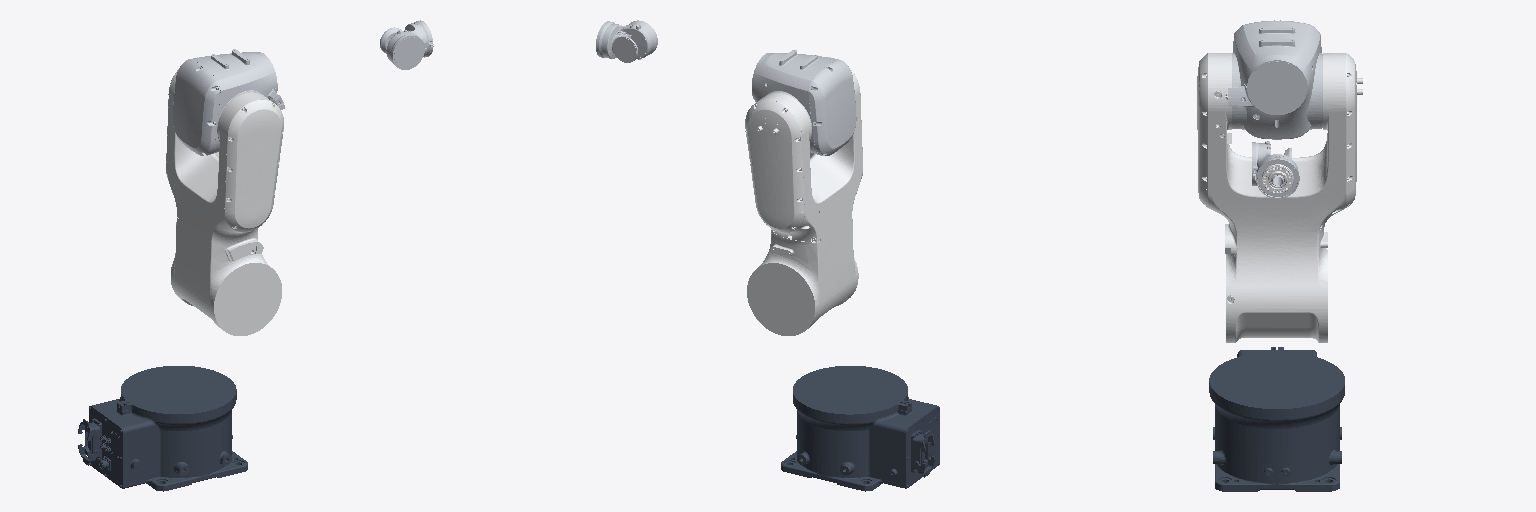
URDF robot description (IR-R20H-120S5-C1NH-INT_01741447):
<?xml version="1.0"?>
<!-- Firmware source: params_package/Standard/Body/IR-R20H-120S5-C1NH-INT_01741447/IR-R20H-120S5-C1NH-INT_01741447.json; SHA256 89846869f9e3eed4bd8fa52d6bdf8d5c34436ff1f6e8a23537920c2deb94a662. -->
<!-- Z-up; STL mm scaled to m. Effective firmware mass properties are SI and transformed into CAD link frames. -->
<!-- Revolute effort is nominal output torque; prismatic effort is ideal screw force. See physics-audit.json for approximations. -->
<robot name="IR-R20H-120S5-C1NH-INT_01741447">
  <link name="base_link">

    <visual name="base">
      <origin xyz="0 0 0" rpy="0 0 0"/>
      <geometry>
        <mesh filename="../models/IR-R20H-120/P0.stl" scale="0.001 0.001 0.001"/>
      </geometry>
      <material name="base_material">
        <color rgba="0.31 0.35 0.41 1"/>
      </material>
    </visual>
    <collision name="base_collision">
      <origin xyz="0 0 0" rpy="0 0 0"/>
      <geometry>
        <mesh filename="../models/IR-R20H-120/P0.stl" scale="0.001 0.001 0.001"/>
      </geometry>
    </collision>
  </link>

  <link name="link_1">

    <!-- inertial source: bounding-box-fallback -->
    <!-- Effective firmware principal moments are not physically realizable; no unit guessing applied -->
    <inertial>
      <origin xyz="0.048762664795 0.004947761536 0.407161254883" rpy="0 0 0"/>
      <mass value="51.29"/>
      <inertia ixx="1.481397177827" ixy="0" ixz="0" iyy="1.45768920473" iyz="0" izz="1.513844381569"/>
    </inertial>

    <visual name="link_1">
      <origin xyz="0 0 0" rpy="0 0 0"/>
      <geometry>
        <mesh filename="../models/IR-R20H-120/P1.stl" scale="0.001 0.001 0.001"/>
      </geometry>
      <material name="link_1_material">
        <color rgba="0.84 0.86 0.89 1"/>
      </material>
    </visual>
    <collision name="link_1_collision">
      <origin xyz="0 0 0" rpy="0 0 0"/>
      <geometry>
        <mesh filename="../models/IR-R20H-120/P1.stl" scale="0.001 0.001 0.001"/>
      </geometry>
    </collision>
  </link>

  <link name="link_2">

    <!-- inertial source: firmware-effective-si -->
    <inertial>
      <origin xyz="0.00744 -0.0186 0.22" rpy="0 0 0"/>
      <mass value="32.38"/>
      <inertia ixx="1.92" ixy="0" ixz="0" iyy="1.68" iyz="0" izz="0.408"/>
    </inertial>

    <visual name="link_2">
      <origin xyz="-0.15 0 -0.5" rpy="0 0 0"/>
      <geometry>
        <mesh filename="../models/IR-R20H-120/P2.stl" scale="0.001 0.001 0.001"/>
      </geometry>
      <material name="link_2_material">
        <color rgba="0.94 0.95 0.96 1"/>
      </material>
    </visual>
    <collision name="link_2_collision">
      <origin xyz="-0.15 0 -0.5" rpy="0 0 0"/>
      <geometry>
        <mesh filename="../models/IR-R20H-120/P2.stl" scale="0.001 0.001 0.001"/>
      </geometry>
    </collision>
  </link>

  <link name="link_3">

    <!-- inertial source: firmware-effective-si -->
    <inertial>
      <origin xyz="0.0252 0.0054 0.033" rpy="0 0 0"/>
      <mass value="10.71"/>
      <inertia ixx="0.088" ixy="0" ixz="0" iyy="0.0844" iyz="0" izz="0.0877"/>
    </inertial>

    <visual name="link_3">
      <origin xyz="-0.15 0 -1.025" rpy="0 0 0"/>
      <geometry>
        <mesh filename="../models/IR-R20H-120/P3.stl" scale="0.001 0.001 0.001"/>
      </geometry>
      <material name="link_3_material">
        <color rgba="0.84 0.86 0.89 1"/>
      </material>
    </visual>
    <collision name="link_3_collision">
      <origin xyz="-0.15 0 -1.025" rpy="0 0 0"/>
      <geometry>
        <mesh filename="../models/IR-R20H-120/P3.stl" scale="0.001 0.001 0.001"/>
      </geometry>
    </collision>
  </link>

  <link name="link_4">

    <!-- inertial source: firmware-effective-si -->
    <inertial>
      <origin xyz="0.36 -0.007 0.000353" rpy="0 0 0"/>
      <mass value="9.14"/>
      <inertia ixx="0.032443793233" ixy="0" ixz="0" iyy="0.15" iyz="0" izz="0.17"/>
    </inertial>

    <visual name="link_4">
      <origin xyz="-0.15 0 -1.09" rpy="0 0 0"/>
      <geometry>
        <mesh filename="../models/IR-R20H-120/P4.stl" scale="0.001 0.001 0.001"/>
      </geometry>
      <material name="link_4_material">
        <color rgba="0.94 0.95 0.96 1"/>
      </material>
    </visual>
    <collision name="link_4_collision">
      <origin xyz="-0.15 0 -1.09" rpy="0 0 0"/>
      <geometry>
        <mesh filename="../models/IR-R20H-120/P4.stl" scale="0.001 0.001 0.001"/>
      </geometry>
    </collision>
  </link>

  <link name="link_5">

    <!-- inertial source: firmware-effective-si -->
    <inertial>
      <origin xyz="0.031018051 -0.008 0.0000661" rpy="0 0 0"/>
      <mass value="1.98"/>
      <inertia ixx="0.00377" ixy="0" ixz="0" iyy="0.0030742545" iyz="0" izz="0.0041"/>
    </inertial>

    <visual name="link_5">
      <origin xyz="-0.689 0 -1.09" rpy="0 0 0"/>
      <geometry>
        <mesh filename="../models/IR-R20H-120/P5.stl" scale="0.001 0.001 0.001"/>
      </geometry>
      <material name="link_5_material">
        <color rgba="0.84 0.86 0.89 1"/>
      </material>
    </visual>
    <collision name="link_5_collision">
      <origin xyz="-0.689 0 -1.09" rpy="0 0 0"/>
      <geometry>
        <mesh filename="../models/IR-R20H-120/P5.stl" scale="0.001 0.001 0.001"/>
      </geometry>
    </collision>
  </link>

  <link name="link_6">

    <!-- inertial source: bounding-box-fallback -->
    <!-- Effective firmware principal moments are not physically realizable; no unit guessing applied -->
    <inertial>
      <origin xyz="-0.005001342773 0.000986198425 -0.000006164551" rpy="0 0 0"/>
      <mass value="0.642122129581"/>
      <inertia ixx="0.000586473906" ixy="0" ixz="0" iyy="0.000329667033" iyz="0" izz="0.000329170976"/>
    </inertial>

    <visual name="link_6">
      <origin xyz="-0.775 0 -1.09" rpy="0 0 0"/>
      <geometry>
        <mesh filename="../models/IR-R20H-120/P6.stl" scale="0.001 0.001 0.001"/>
      </geometry>
      <material name="link_6_material">
        <color rgba="0.94 0.95 0.96 1"/>
      </material>
    </visual>
    <collision name="link_6_collision">
      <origin xyz="-0.775 0 -1.09" rpy="0 0 0"/>
      <geometry>
        <mesh filename="../models/IR-R20H-120/P6.stl" scale="0.001 0.001 0.001"/>
      </geometry>
    </collision>
  </link>

  <joint name="J1" type="revolute">
    <parent link="base_link"/>
    <child link="link_1"/>
    <origin xyz="0 0 0" rpy="0 0 0"/>
    <axis xyz="0 0 1"/>
    <limit lower="-2.96705972839" upper="2.96705972839" effort="690.9" velocity="4.537856055185"/>
  </joint>

  <joint name="J2" type="revolute">
    <parent link="link_1"/>
    <child link="link_2"/>
    <origin xyz="0.15 0 0.5" rpy="0 0 0"/>
    <axis xyz="0 -1 0"/>
    <limit lower="-2.792526803191" upper="1.221730476396" effort="686" velocity="4.188790204786"/>
  </joint>

  <joint name="J3" type="revolute">
    <parent link="link_2"/>
    <child link="link_3"/>
    <origin xyz="0 0 0.525" rpy="0 0 0"/>
    <axis xyz="0 -1 0"/>
    <limit lower="-1.326450231516" upper="3.577924966588" effort="362.98125" velocity="4.537856055185"/>
  </joint>

  <joint name="J4" type="revolute">
    <parent link="link_3"/>
    <child link="link_4"/>
    <origin xyz="0 0 0.065" rpy="0 0 0"/>
    <axis xyz="1 0 0"/>
    <limit lower="-3.316125578789" upper="3.316125578789" effort="75.31354" velocity="8.203047484373"/>
  </joint>

  <joint name="J5" type="revolute">
    <parent link="link_4"/>
    <child link="link_5"/>
    <origin xyz="0.539 0 0" rpy="0 0 0"/>
    <axis xyz="0 -1 0"/>
    <limit lower="-2.443460952792" upper="2.443460952792" effort="59.34528" velocity="7.853981633974"/>
  </joint>

  <joint name="J6" type="revolute">
    <parent link="link_5"/>
    <child link="link_6"/>
    <origin xyz="0.086 0 0" rpy="0 0 0"/>
    <axis xyz="1 0 0"/>
    <limit lower="-6.28318530718" upper="6.28318530718" effort="37.8624" velocity="12.30457122656"/>
  </joint>

  <link name="tool0"/>
  <joint name="tool0_fixed" type="fixed">
    <parent link="link_6"/>
    <child link="tool0"/>
    <origin xyz="0 0 0" rpy="3.14159265359 -1.570796326795 0"/>
  </joint>
</robot>

--- Facts derived from the render (not from the file) ---
Views: 3 orthographic renders of the robot side by side, from view 1: azimuth 30°, elevation 25°; view 2: azimuth 150°, elevation 25°; view 3: azimuth 270°, elevation 25°.
Robot: IR-R20H-120S5-C1NH-INT_01741447 — 8 links, 7 joints (6 revolute, 1 fixed); root link base_link; default pose: every joint at zero.
Visible links, largest first — view 1: link_2, base_link, link_3, link_5; view 2: link_2, base_link, link_3, link_5; view 3: link_2, base_link, link_3, link_5, link_6.
Link boxes in pixels (x1,y1,x2,y2): link_2: (166,57,283,335); base_link: (78,366,247,491); link_3: (173,49,284,155); link_5: (380,20,433,69); link_2: (745,57,862,335); base_link: (781,366,939,491); link_3: (752,50,856,155); link_5: (596,20,657,62); link_2: (1197,53,1362,342); base_link: (1209,347,1344,491); link_3: (1228,20,1322,139); link_5: (1252,141,1299,198); link_6: (1262,164,1293,193).
Size in the robot's own frame: 1.06 by 0.3837 by 1.18 metres.
Meshes: 7 distinct files referenced, 5 mesh visuals loaded (5 binary STL); not drawn: 2 (reference not matched to a file when rendering).
